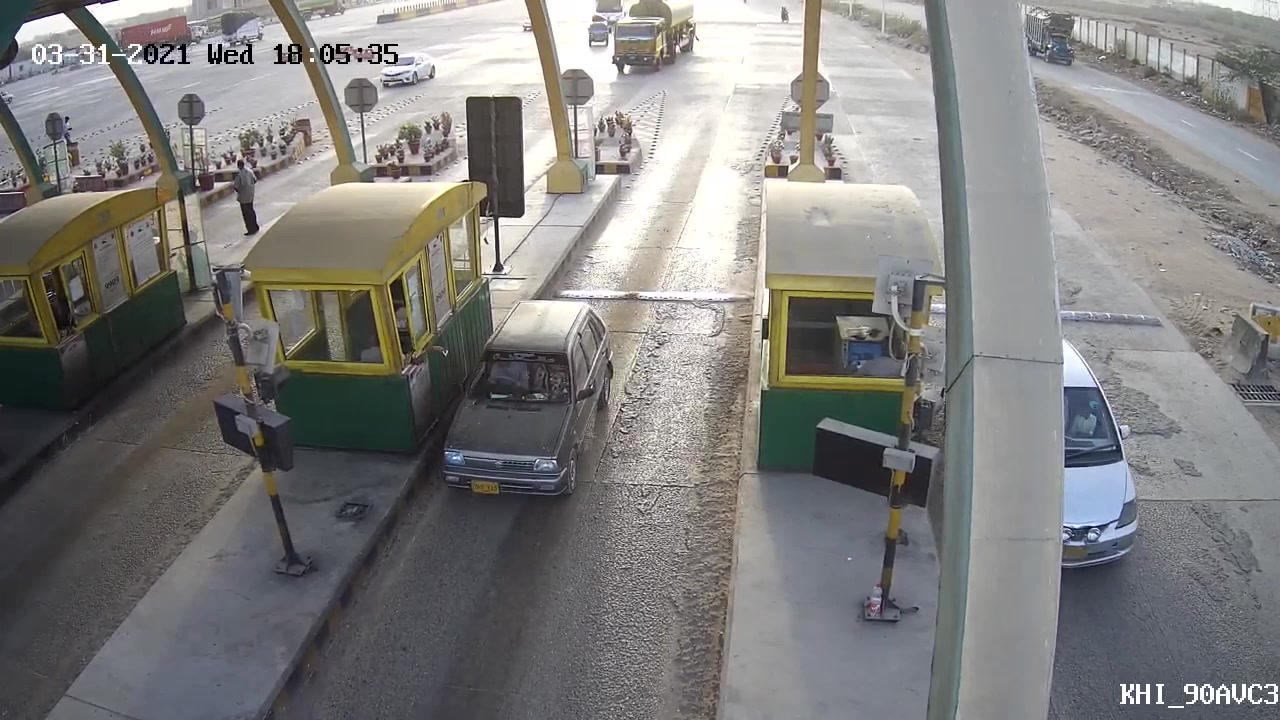F1: (432, 297, 632, 513)
